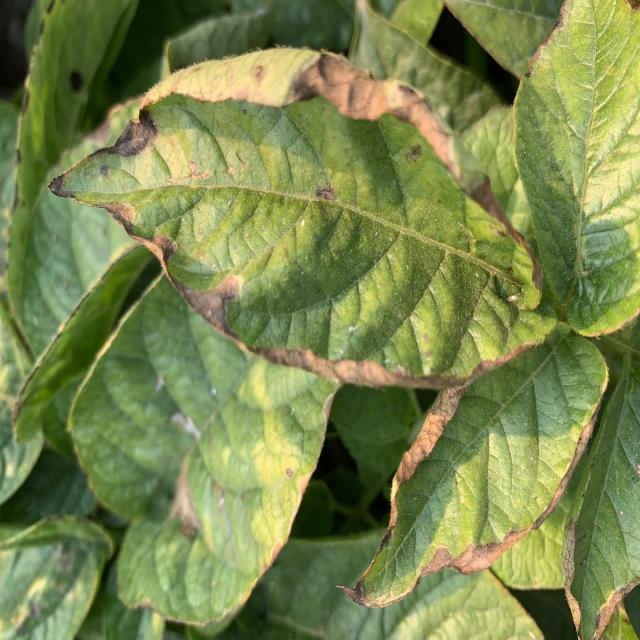lateblight: (285, 50, 512, 230), (249, 325, 535, 388), (102, 202, 239, 332), (389, 383, 469, 532), (530, 387, 605, 530), (420, 532, 518, 578), (86, 110, 158, 158), (48, 172, 75, 198), (316, 178, 338, 202)
